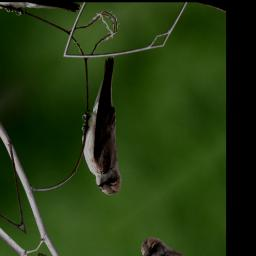Swallow: (44, 52, 176, 202)
